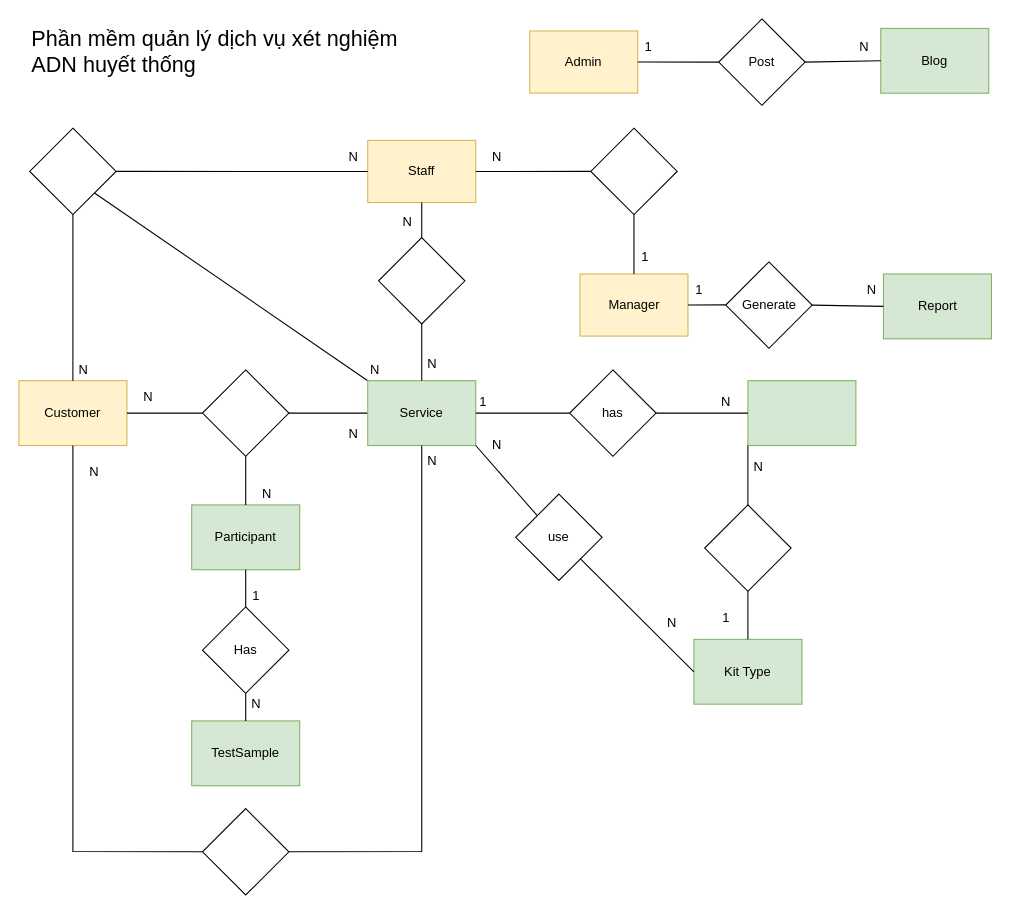
This 1011x915 diagram has some shape labels left out. Each missing label, with the centre of its shape:
"belongs" belongs at pixel 747 547.
"book" belongs at pixel 245 412.
"Feedback" belongs at pixel 72 171.
"Handle" belongs at pixel 421 280.
"Kit Item" belongs at pixel 801 413.
"monitor" belongs at pixel 633 171.
"Result" belongs at pixel 245 851.
